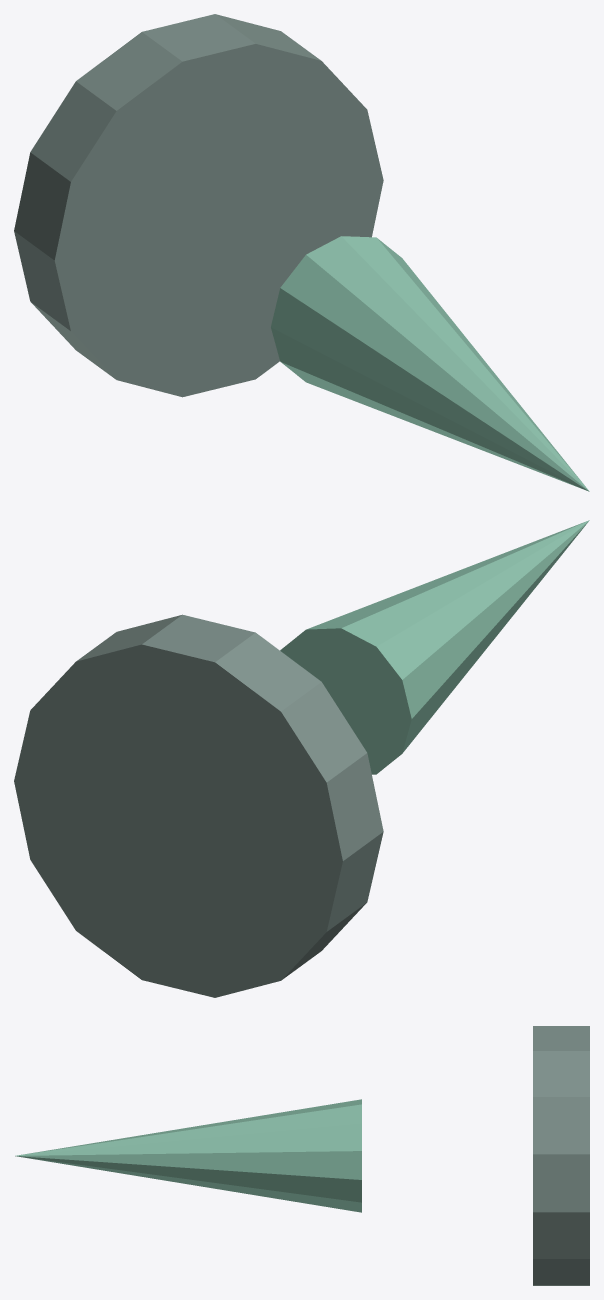
The model's file is mission-beacon-eco.glb.
3 views of the same model, one above another, from view 1: azimuth 30°, elevation 25°; view 2: azimuth 150°, elevation 25°; view 3: azimuth 270°, elevation 25° (orthographic). The views are drawn at different scales.
Visible parts, largest first — view 1: base, beam; view 2: base, beam; view 3: beam, base.
Part boxes in pixels (<box>): base: <box>14,14,383,397</box>; beam: <box>271,236,589,491</box>; base: <box>14,614,383,997</box>; beam: <box>280,520,589,774</box>; beam: <box>15,1099,361,1212</box>; base: <box>533,1026,589,1285</box>.
Size of the model in its own units: 0.84 by 0.8189 by 1.82.
